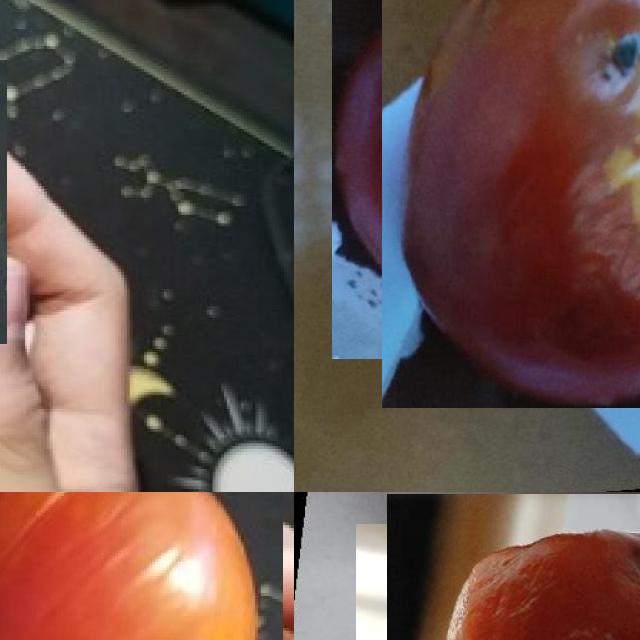Rotten Tomato: (357, 0, 640, 383), (0, 492, 276, 640), (372, 508, 640, 640)
